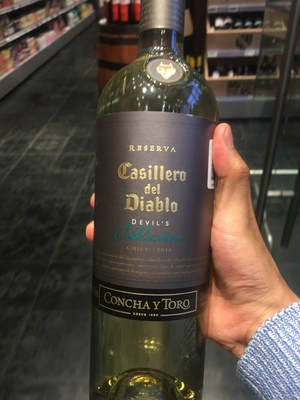casillero del diablo devils collection verde: (90, 23, 226, 400)
